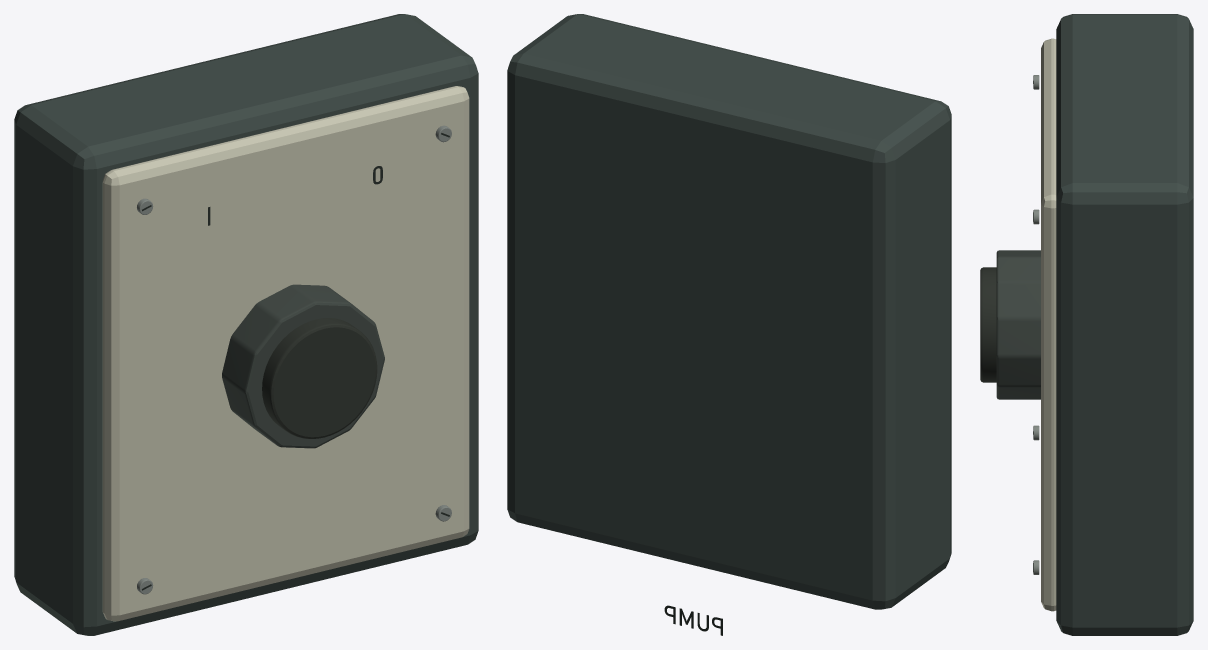
File: PUMP_Housing.fbx
3 renders of one model, left to right at view 1: azimuth 30°, elevation 25°; view 2: azimuth 150°, elevation 25°; view 3: azimuth 270°, elevation 25°, orthographic. The views are drawn at different scales.
Visible parts, largest first — view 1: PUMP_Housing_EXPORT; view 2: PUMP_Housing_EXPORT; view 3: PUMP_Housing_EXPORT.
Part boxes in pixels (x1,y1,x2,y2): PUMP_Housing_EXPORT: (14,14,478,635); PUMP_Housing_EXPORT: (507,14,951,635); PUMP_Housing_EXPORT: (980,14,1193,635).
Size of the model in its own units: 0.292 by 0.3792 by 0.1445.
